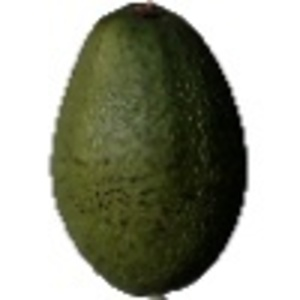abacate: (47, 3, 249, 292)
